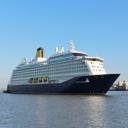cruises: (7, 40, 123, 97)
